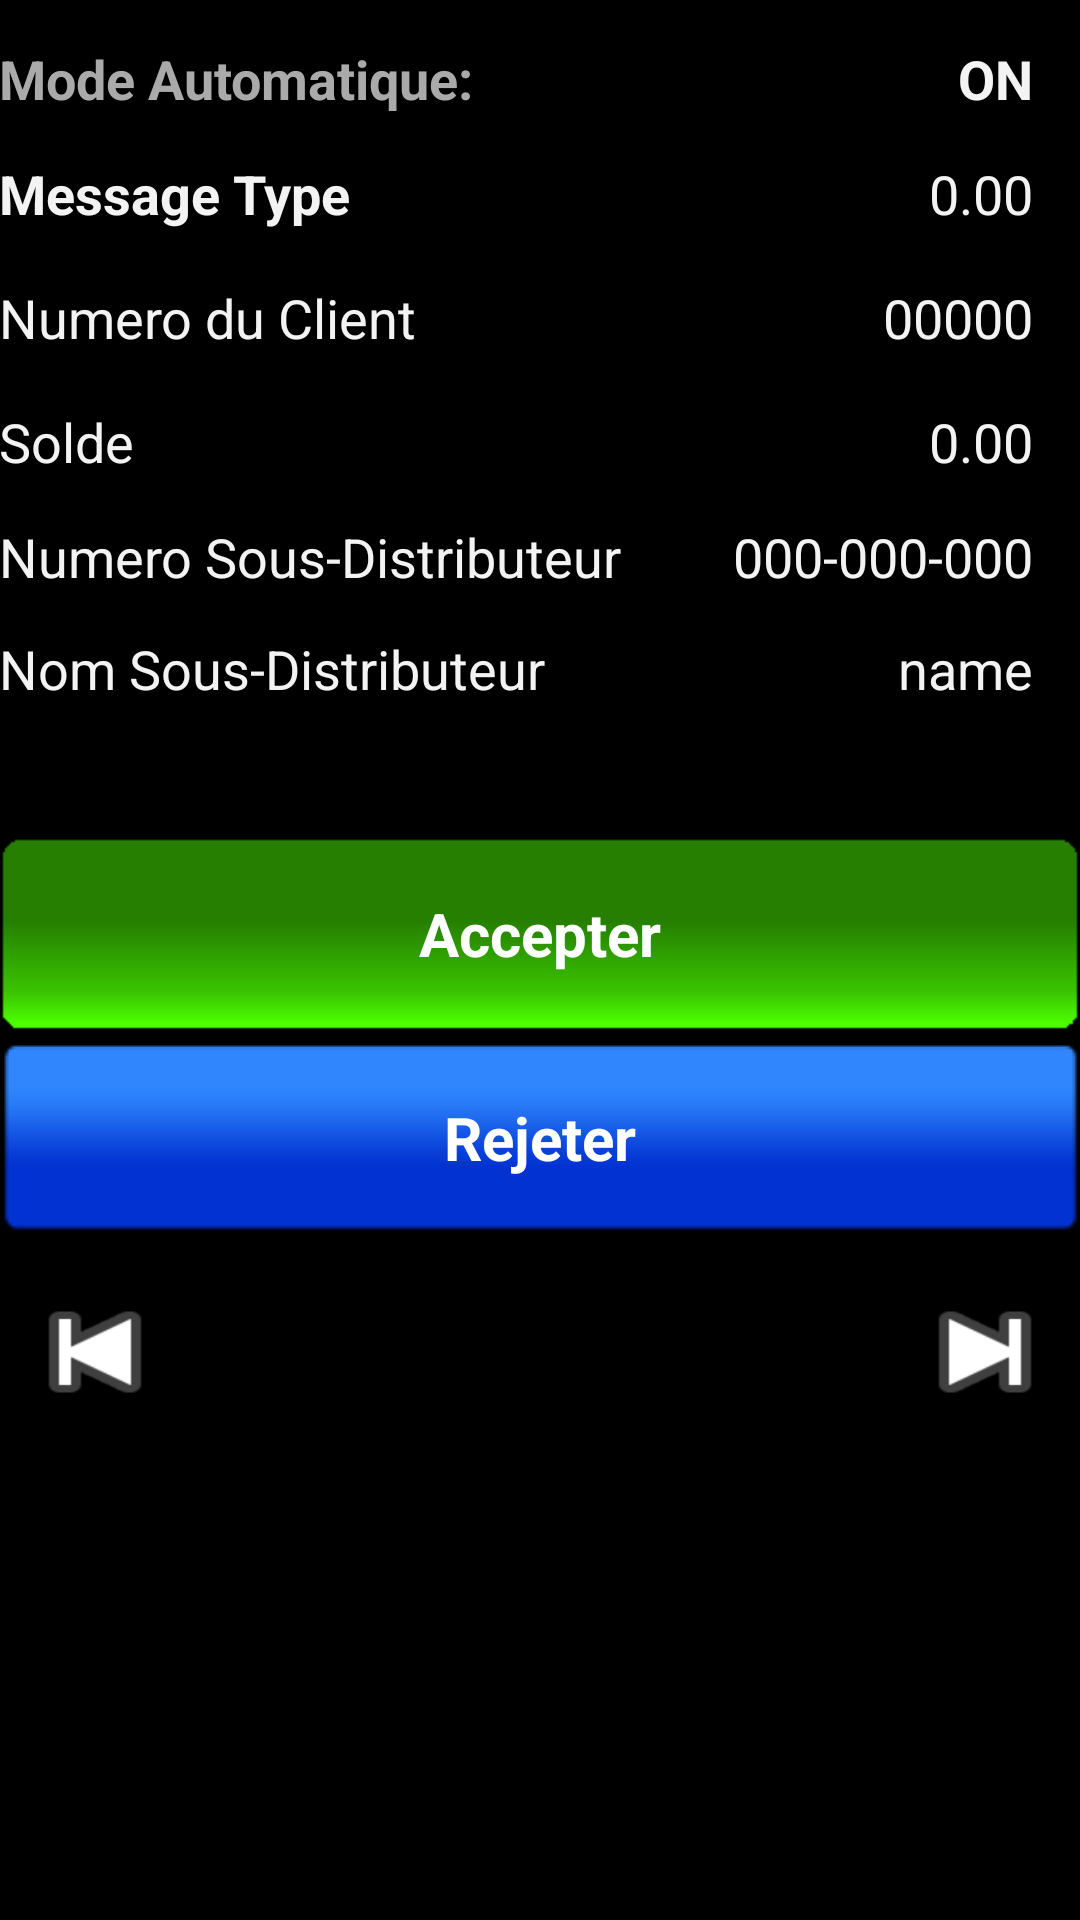

Icons on this 1080×1920 Android screen, each with the point to tap as point (x, y):
next: point (985, 1352)
previous: point (95, 1352)
